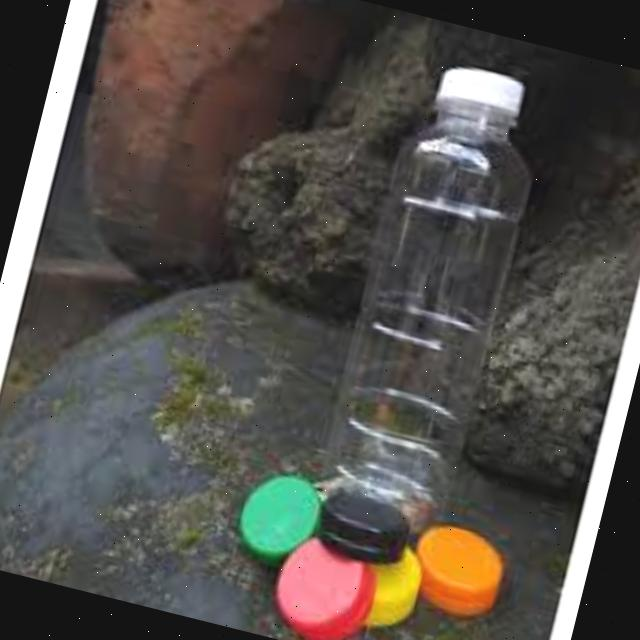trash: (296, 40, 564, 554)
